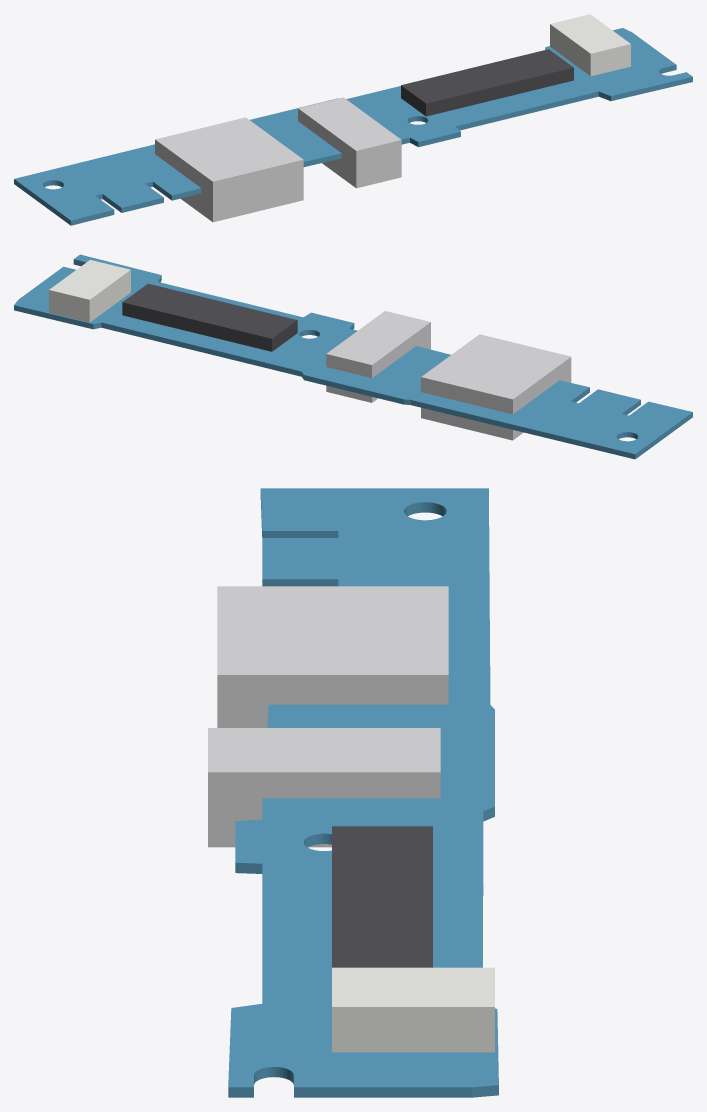
The model's file is childboard.glb.
3 views of the same model, one above another, from view 1: azimuth 30°, elevation 25°; view 2: azimuth 150°, elevation 25°; view 3: azimuth 270°, elevation 25° (orthographic). The views are drawn at different scales.
Visible parts, largest first — view 1: cb_pcb, cb_usb_a, cb_mb_conn, cb_audio, cb_spk_conn; view 2: cb_pcb, cb_usb_a, cb_mb_conn, cb_audio, cb_spk_conn; view 3: cb_pcb, cb_usb_a, cb_audio, cb_mb_conn, cb_spk_conn.
Boxes of the visible parts, x1,y1,x2,y2 form: cb_pcb: (14, 28, 692, 225); cb_usb_a: (155, 117, 303, 222); cb_mb_conn: (401, 49, 573, 116); cb_audio: (298, 97, 401, 188); cb_spk_conn: (550, 14, 630, 76); cb_pcb: (14, 254, 692, 459); cb_usb_a: (421, 334, 571, 440); cb_mb_conn: (122, 283, 297, 351); cb_audio: (326, 311, 430, 402); cb_spk_conn: (49, 259, 130, 322); cb_pcb: (228, 488, 498, 1097); cb_usb_a: (217, 586, 448, 727); cb_audio: (208, 728, 440, 847); cb_mb_conn: (332, 826, 432, 967); cb_spk_conn: (332, 967, 494, 1052).
Size of the model in its own units: 99.56 by 7.5 by 20.44.
